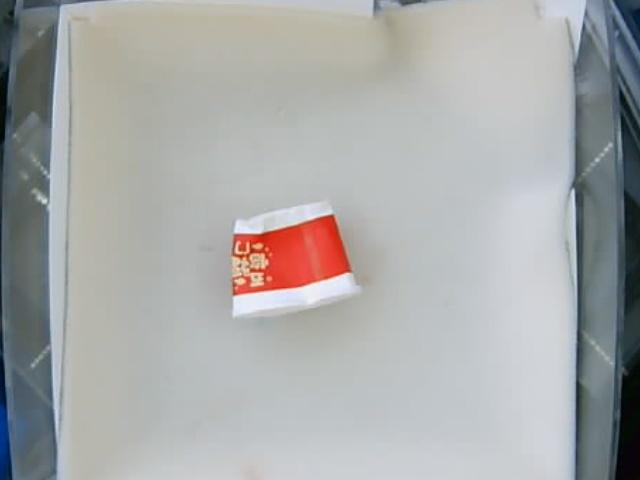Cup: (226, 202, 364, 324)
